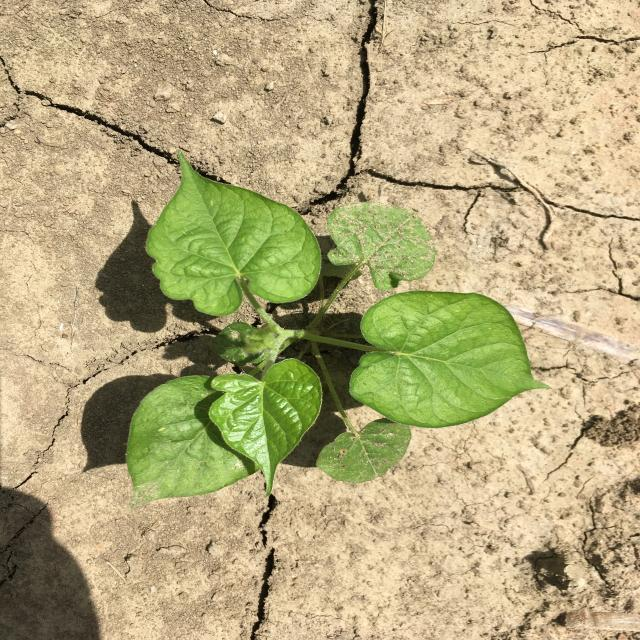MorningGlory: (125, 151, 552, 509)
